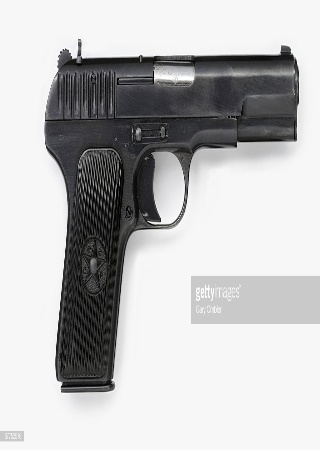handgun: (42, 36, 299, 393)
